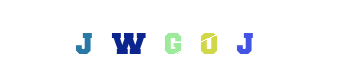G: (130, 0, 210, 80)
J: (88, 0, 168, 80), (169, 0, 249, 80)
O: (133, 0, 213, 80)
W: (121, 0, 201, 80)
